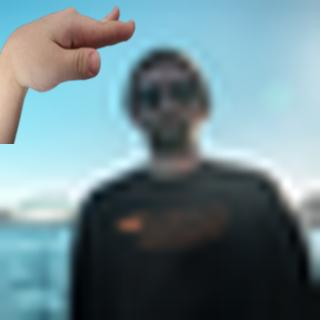Wait: (0, 1, 141, 94)
